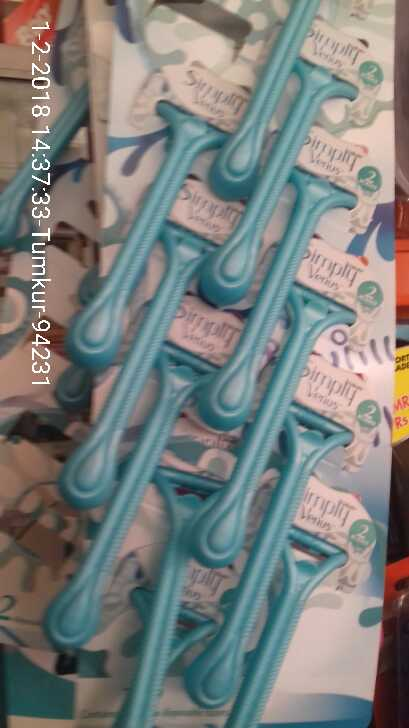venus: (60, 39, 386, 672)
